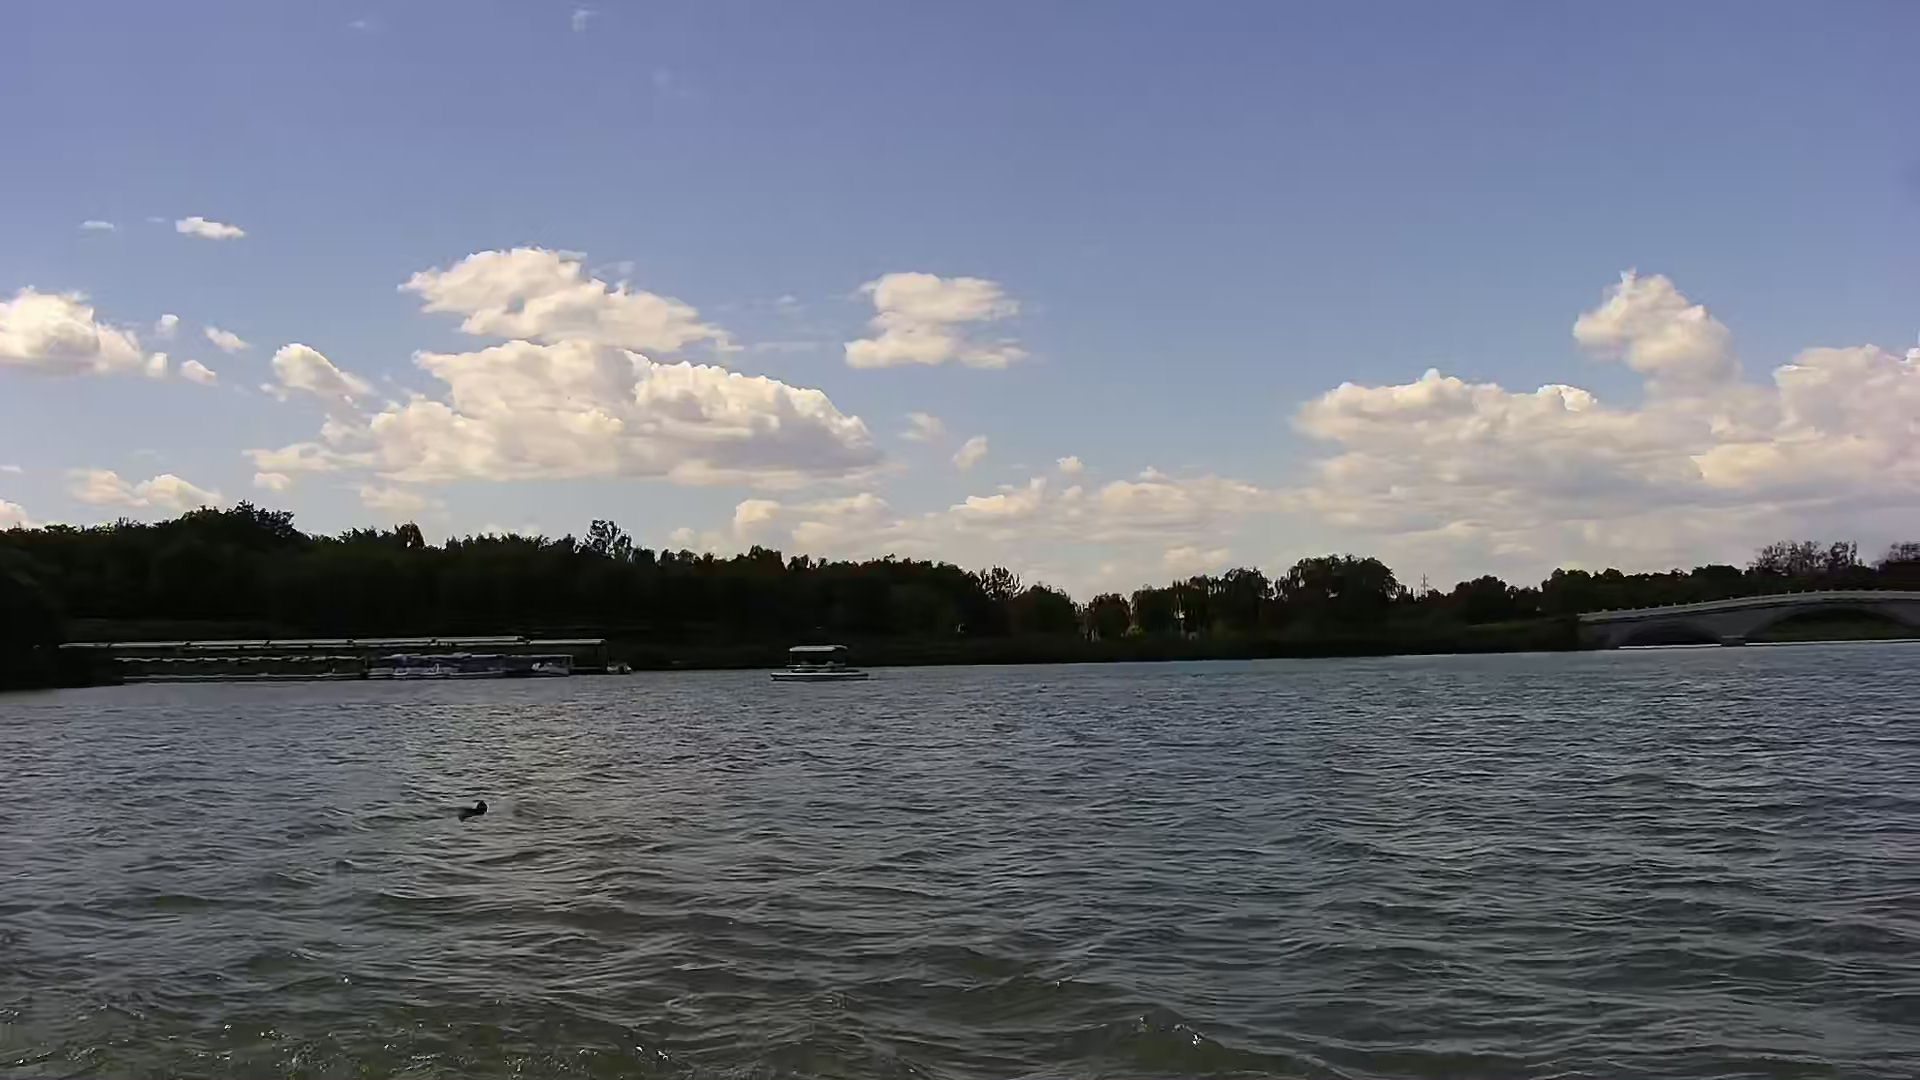animal: (448, 802, 492, 825)
boat: (774, 641, 876, 679)
bridge: (1578, 589, 1920, 647)
harbor: (96, 636, 634, 678)
